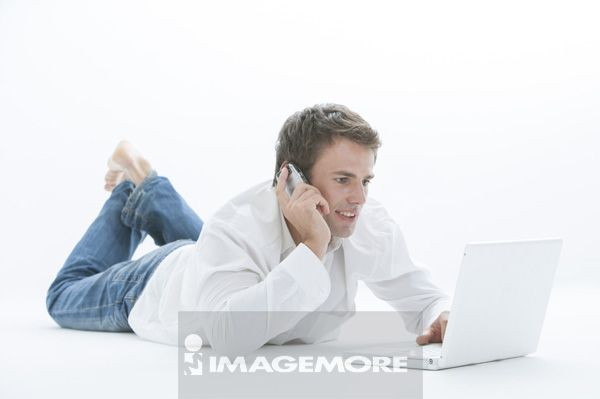talk: (276, 161, 374, 256)
